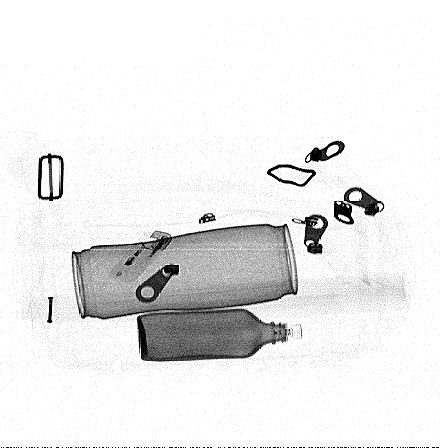Lighter: (108, 229, 173, 283)
